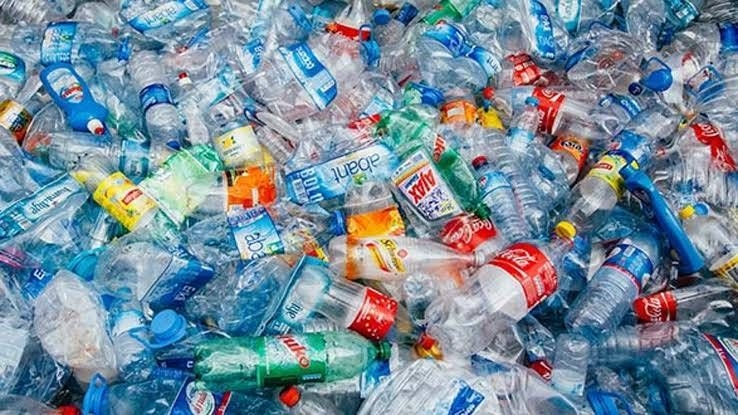plastic: (416, 219, 576, 364), (560, 216, 673, 344), (241, 24, 387, 123), (192, 326, 396, 394), (290, 261, 440, 352), (67, 143, 184, 258), (553, 130, 659, 236), (471, 74, 626, 145), (115, 41, 205, 150), (618, 163, 702, 272), (5, 16, 135, 71), (35, 59, 115, 137), (467, 147, 530, 241), (544, 330, 591, 400)
